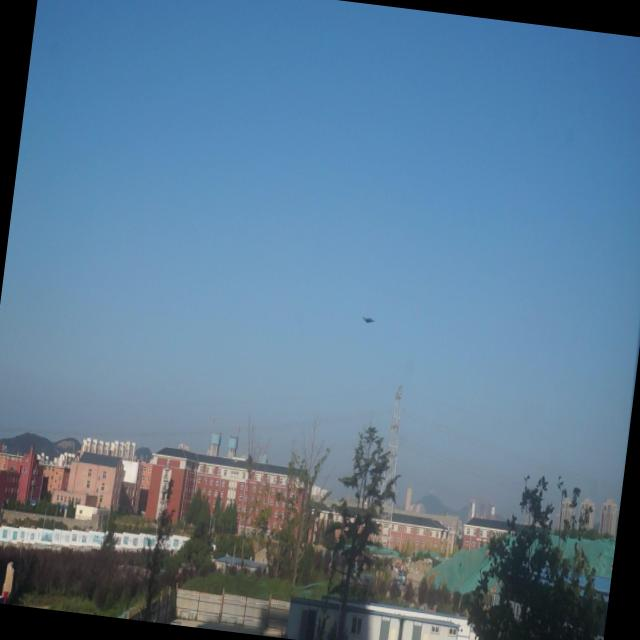drone: (361, 310, 376, 332)
